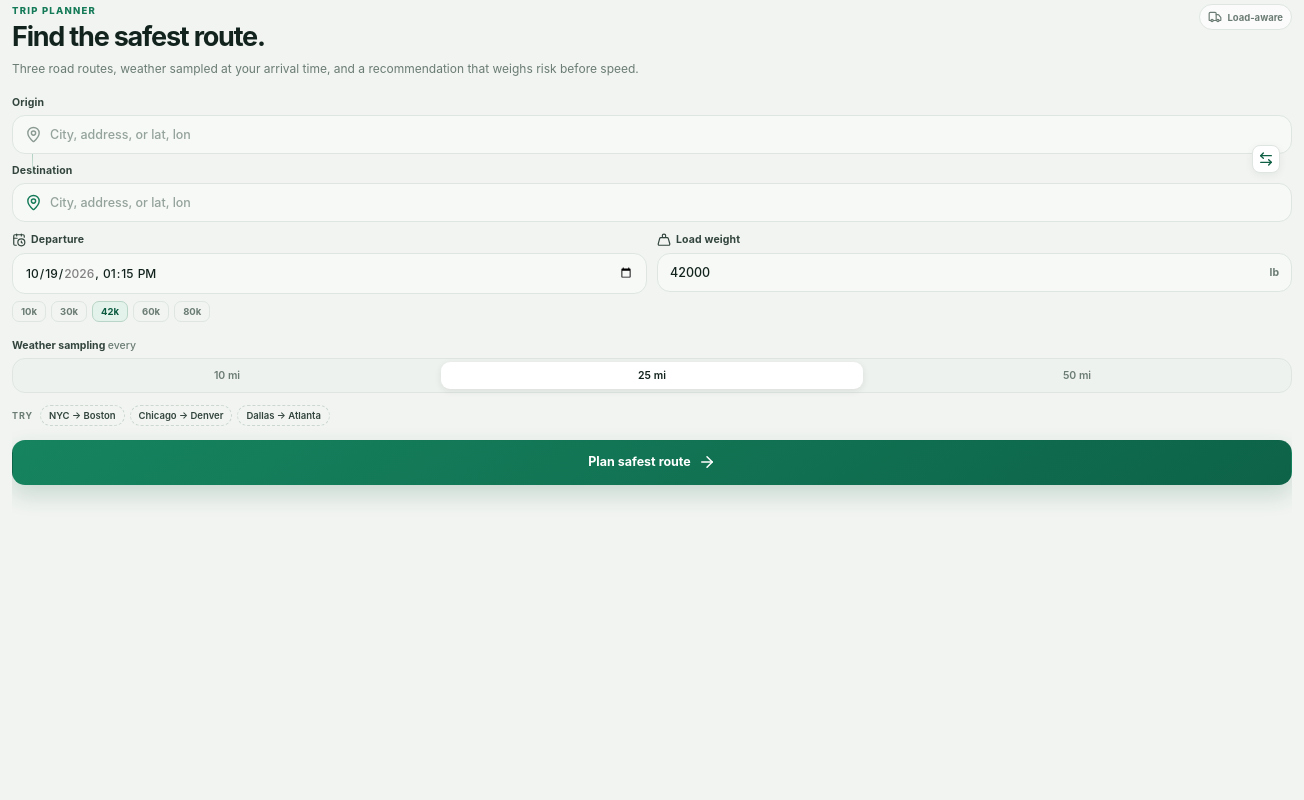
Test case: PlannerForm › shows validation errors instead of submitting
Click the button "Plan safest route": x=652, y=462 [12,440,1292,485]
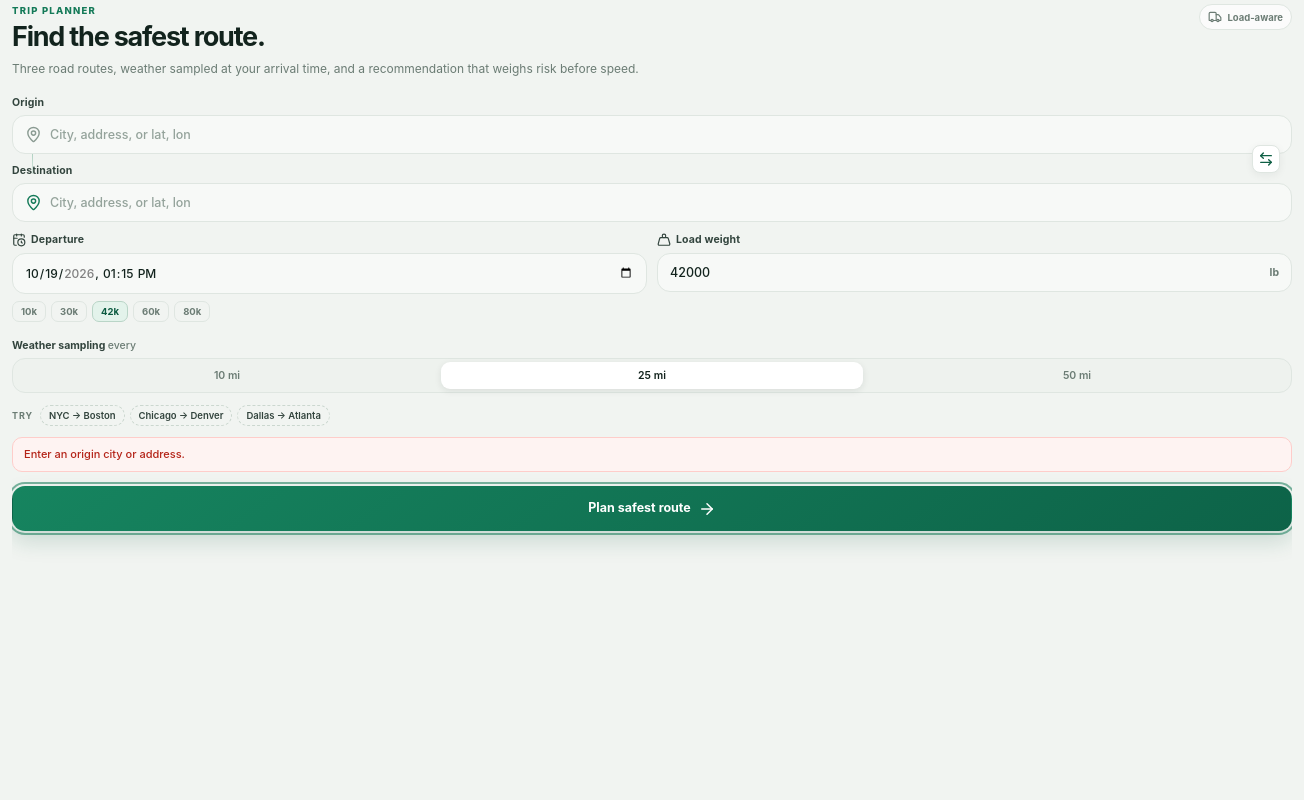
Check: the message shows "Enter an origin", box [24,447,185,461]
